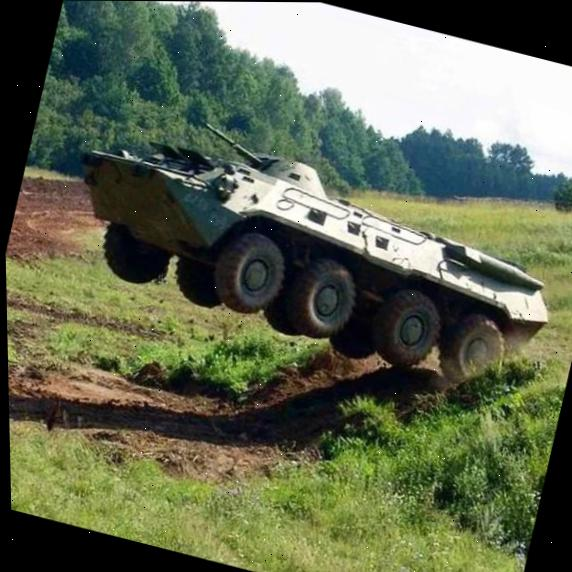tank: (46, 89, 572, 405)
